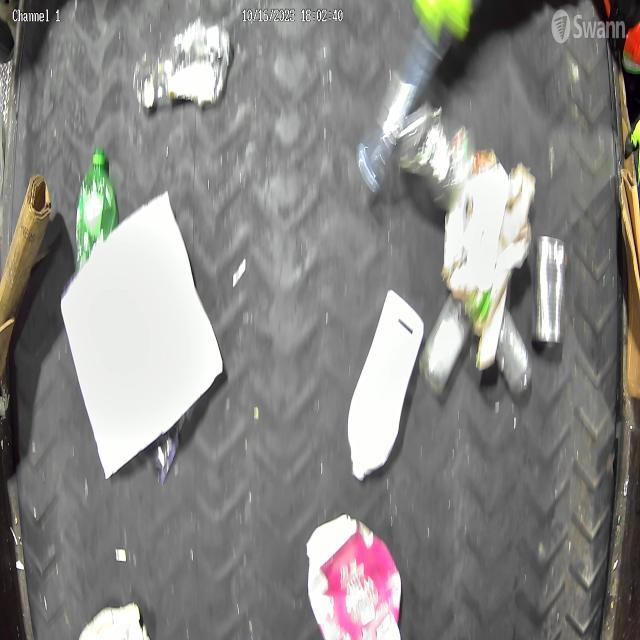can: (530, 235, 568, 351)
non_white_jug: (306, 513, 404, 640)
